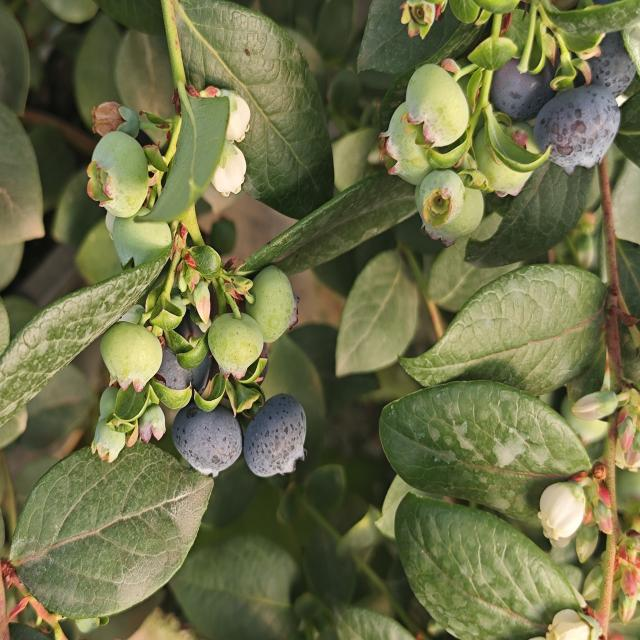ripe: (531, 81, 622, 178), (139, 315, 219, 401), (567, 17, 640, 101), (242, 391, 309, 481), (482, 51, 560, 128), (170, 400, 244, 480)
